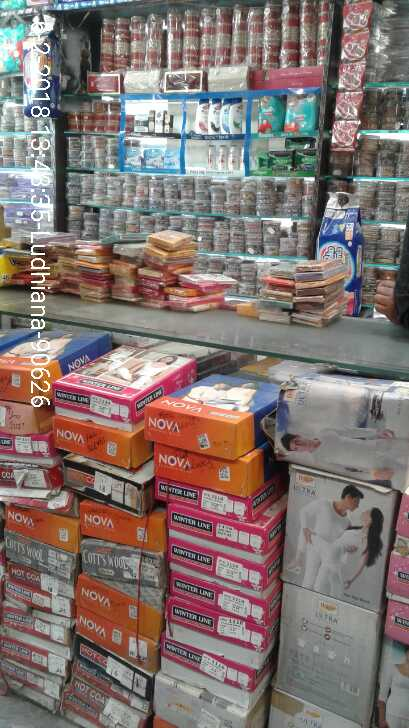venus: (143, 150, 161, 168), (164, 148, 180, 168), (126, 147, 141, 166)
